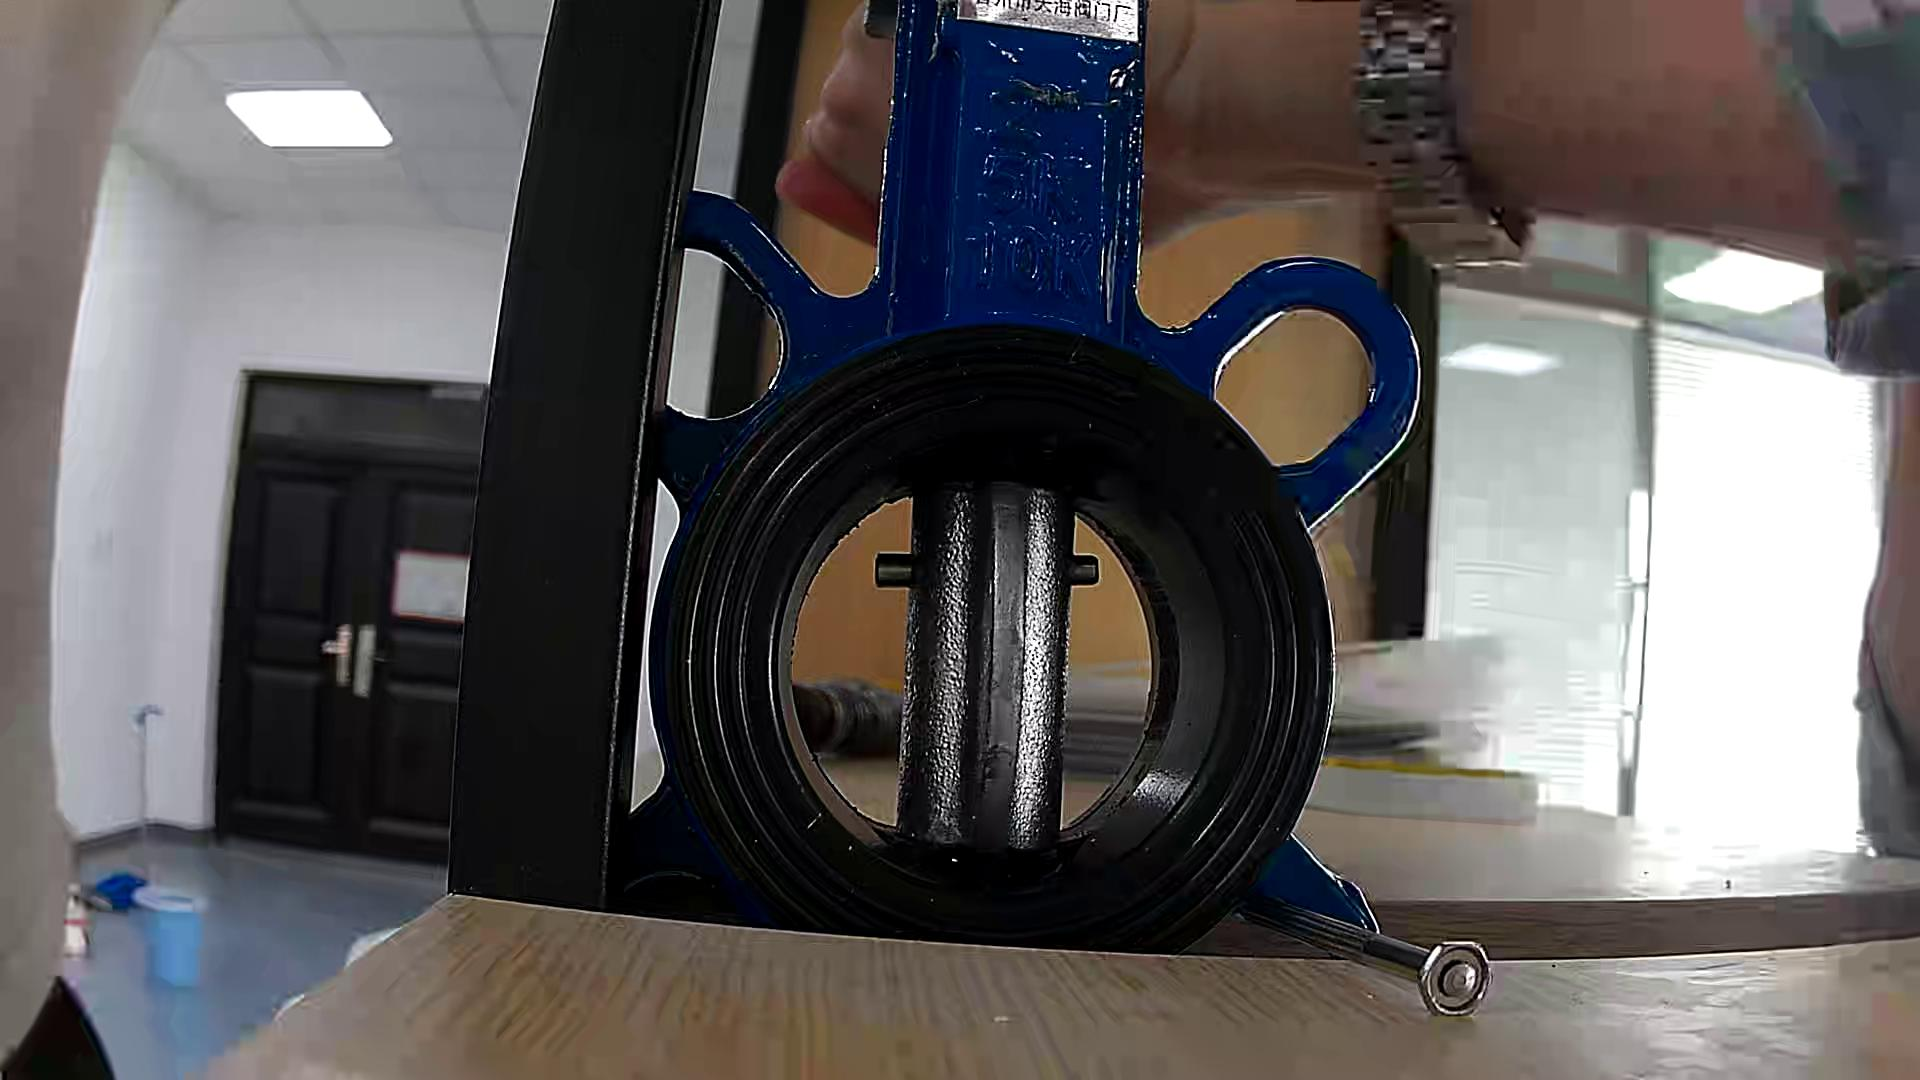valve: (896, 480, 1072, 851)
